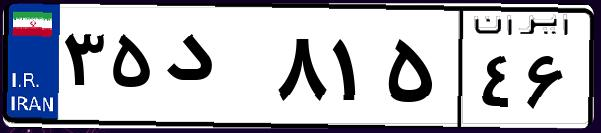1: (330, 28, 385, 110)
3: (57, 26, 110, 100)
4: (475, 38, 525, 113)
5: (385, 28, 445, 110), (110, 28, 158, 98)
6: (525, 38, 570, 115)
8: (270, 28, 330, 110)
د: (158, 20, 270, 120)
